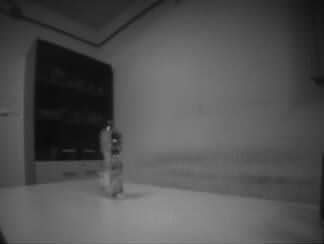Bottle: (98, 120, 124, 200)
